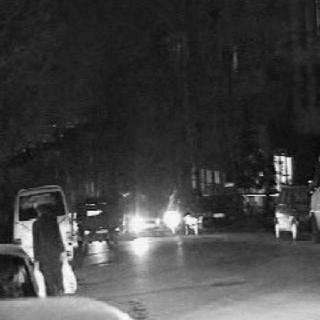other: (122, 194, 189, 266)
